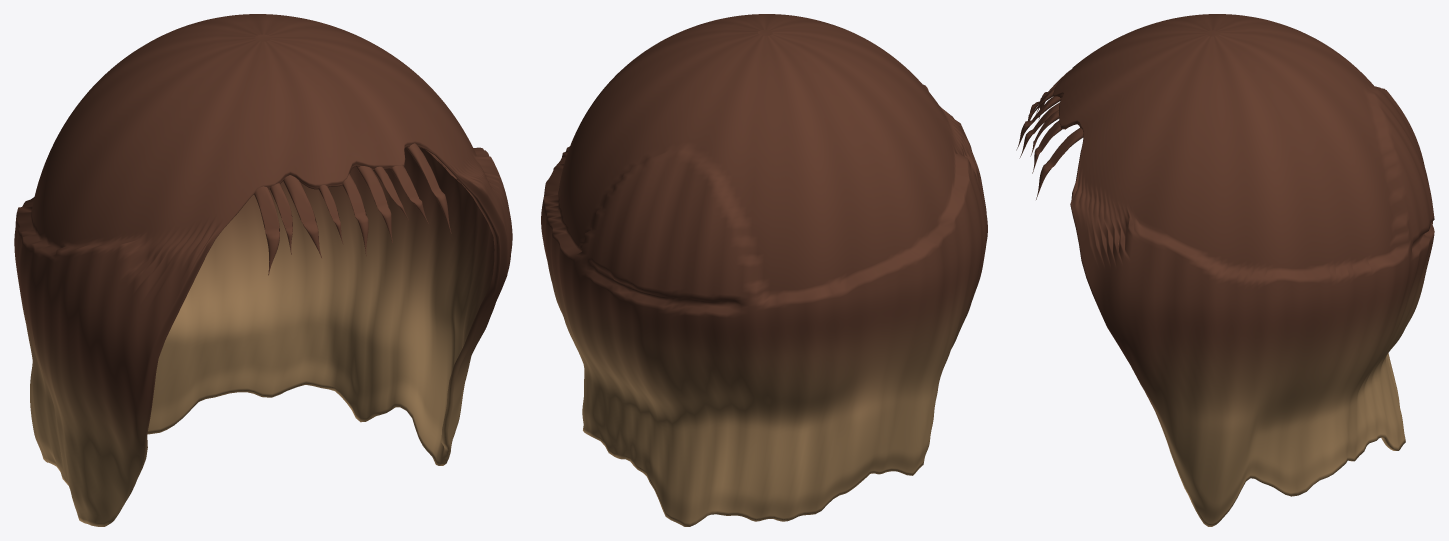
The model's file is side-sweep-cap-ombre.glb.
The picture shows the model from 3 angles, left to right: view 1: azimuth 30°, elevation 25°; view 2: azimuth 150°, elevation 25°; view 3: azimuth 270°, elevation 25°; orthographic projection. The views are drawn at different scales.
Parts seen in each view (by area): view 1: Hair / layered lob, Fringe / tapered lock 01, Fringe / tapered lock 03, Fringe / tapered lock 06, Fringe / tapered lock 09, Fringe / tapered lock 05, Fringe / tapered lock 02, Fringe / tapered lock 08; view 2: Hair / layered lob; view 3: Hair / layered lob, Fringe / tapered lock 09.
Boxes of the visible parts, left/top/right/bottom form: Hair / layered lob: left=14, top=14, right=512, bottom=526; Fringe / tapered lock 01: left=254, top=186, right=279, bottom=275; Fringe / tapered lock 03: left=283, top=175, right=321, bottom=257; Fringe / tapered lock 06: left=356, top=166, right=392, bottom=242; Fringe / tapered lock 09: left=406, top=143, right=451, bottom=233; Fringe / tapered lock 05: left=342, top=173, right=368, bottom=256; Fringe / tapered lock 02: left=270, top=183, right=292, bottom=254; Fringe / tapered lock 08: left=391, top=165, right=428, bottom=223; Hair / layered lob: left=541, top=14, right=987, bottom=526; Hair / layered lob: left=1053, top=14, right=1434, bottom=526; Fringe / tapered lock 09: left=1036, top=127, right=1083, bottom=199.
Bounding box in the file's own units: 0.8388 × 0.8705 × 0.79.
